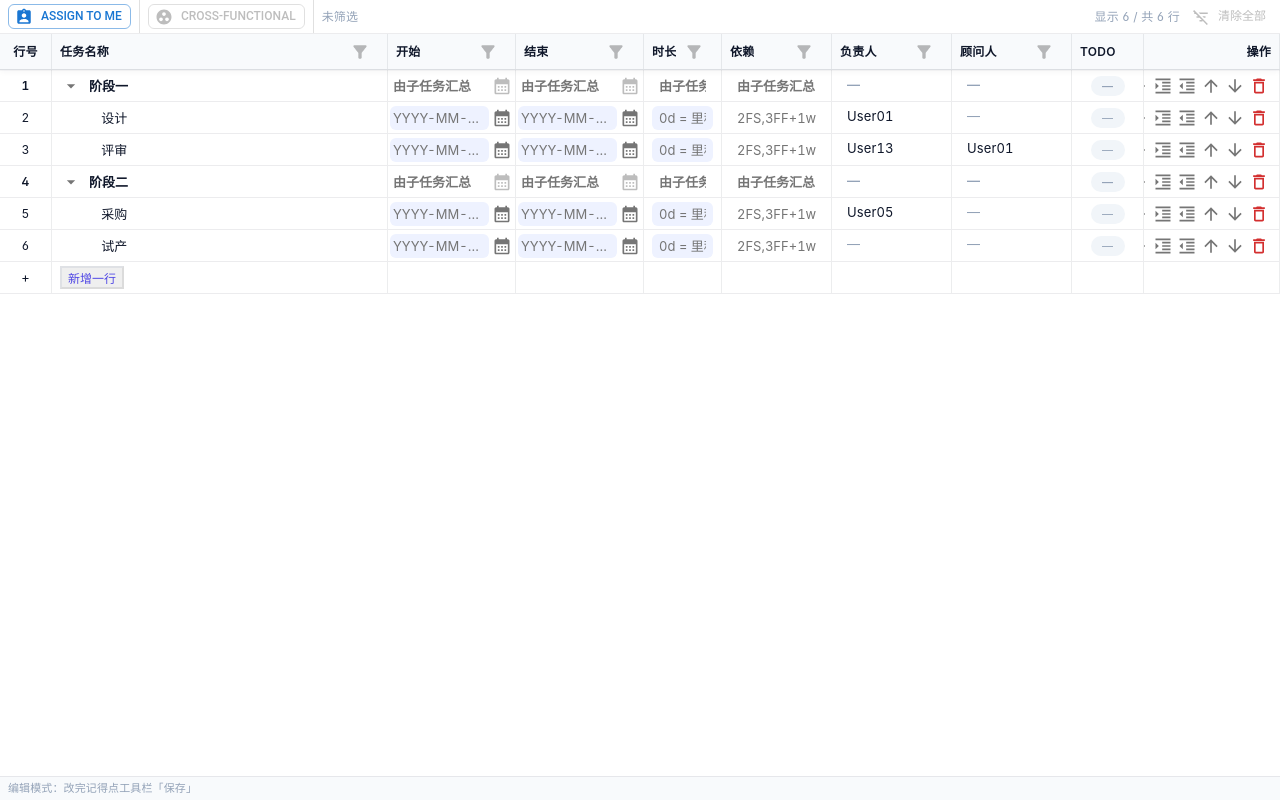
U03·筛选 UI › 表头漏斗：取消勾选一个值即时生效，漏斗高亮，chips 出现
Click the 6th button with class "pg-th-filter" at (924, 52), box [914,42,934,62]
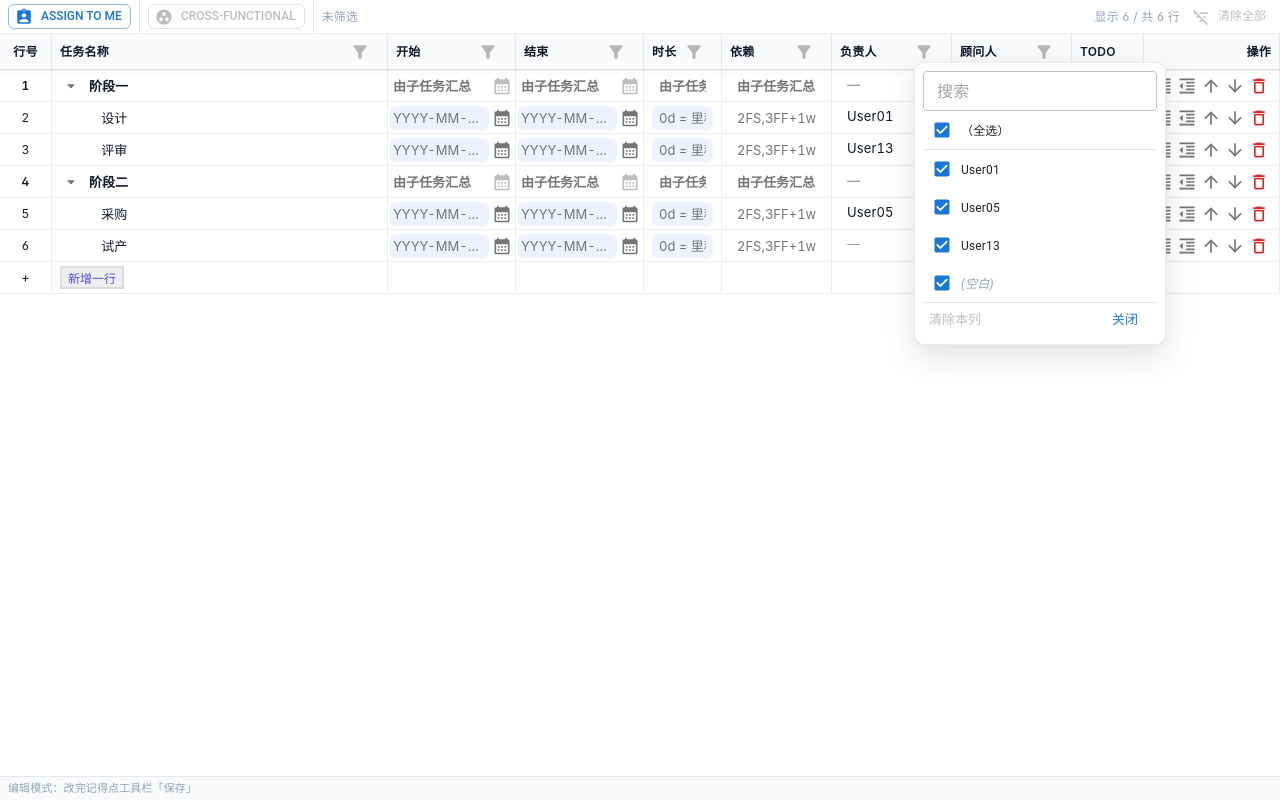
// 面板里取消勾选 User05（默认全选，点一下即取消）→ 采购行消失
Click the checkbox labelled "User05" at (966, 207), box [932,197,1000,217]
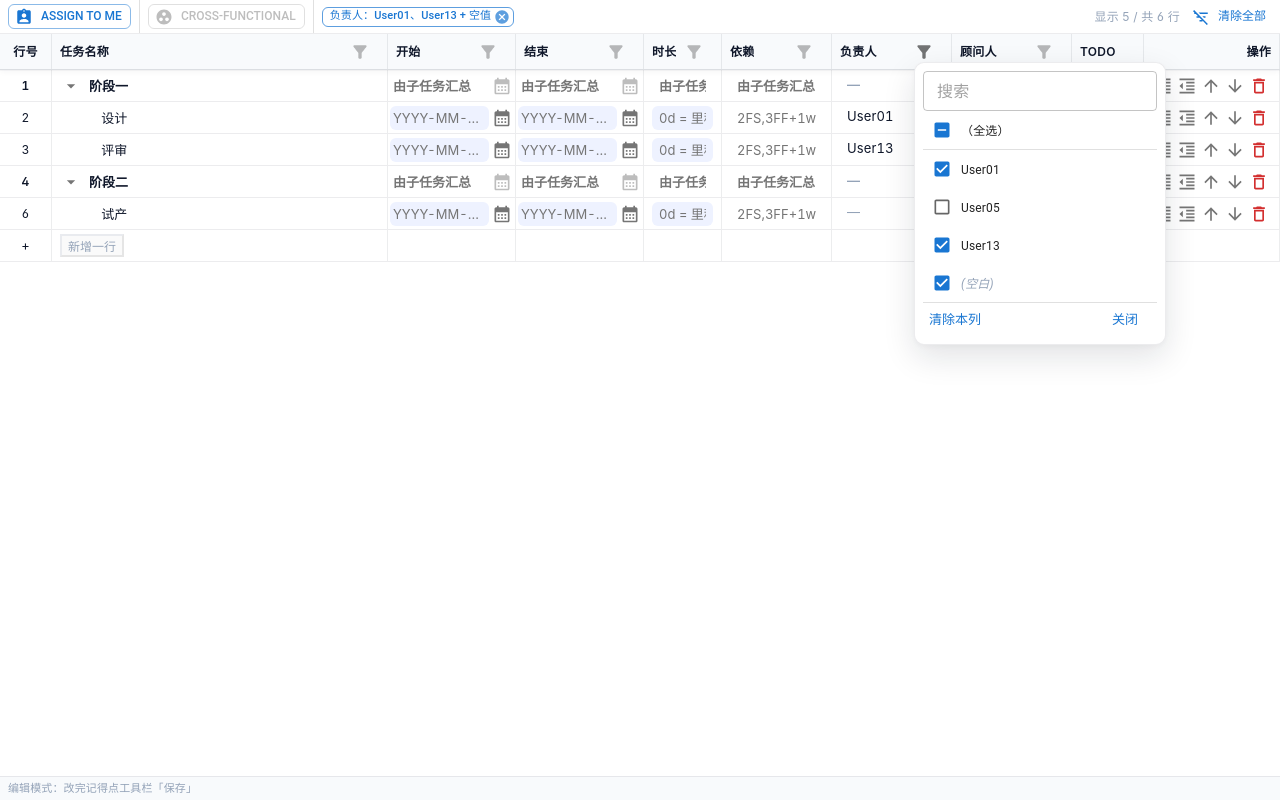
Check: the 1st button is shown, box [914,42,934,62]
Check: the text "负责人：User01、User13 + 空值" is shown, box [323,8,498,25]
